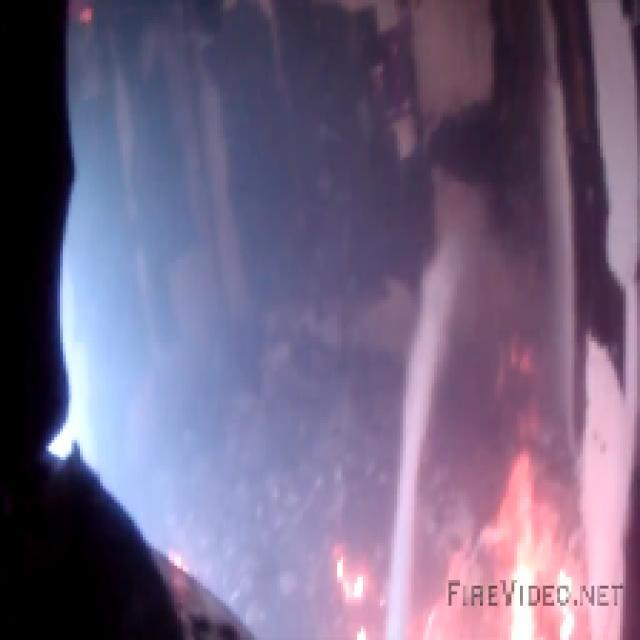Fire: (467, 458, 608, 628)
